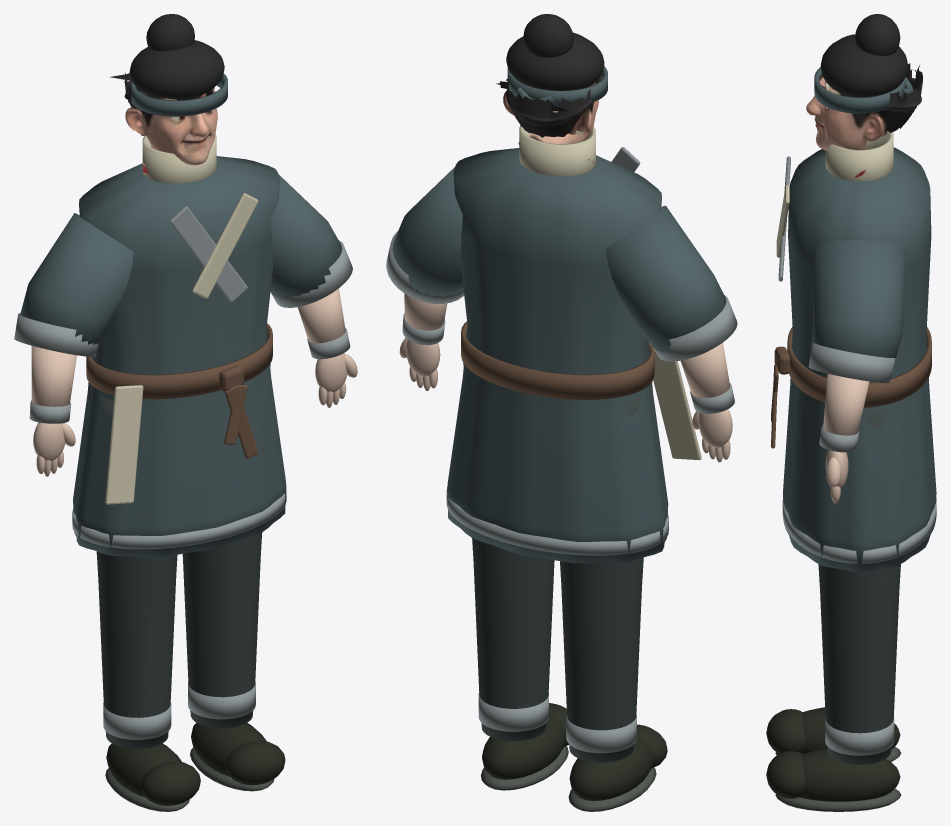
Rendered from servant.glb.
The picture shows the model from 3 angles, left to right: view 1: azimuth 30°, elevation 25°; view 2: azimuth 150°, elevation 25°; view 3: azimuth 270°, elevation 25°; orthographic projection. The views are drawn at different scales.
Visible parts, largest first — view 1: servant; view 2: servant; view 3: servant.
Part boxes in pixels (x1,y1,x2,y2): servant: [14, 14, 357, 811]; servant: [386, 14, 737, 811]; servant: [766, 14, 936, 811].
Size of the model in its own units: 0.8154 by 1.79 by 0.3608.
5 materials, 5 textured.
